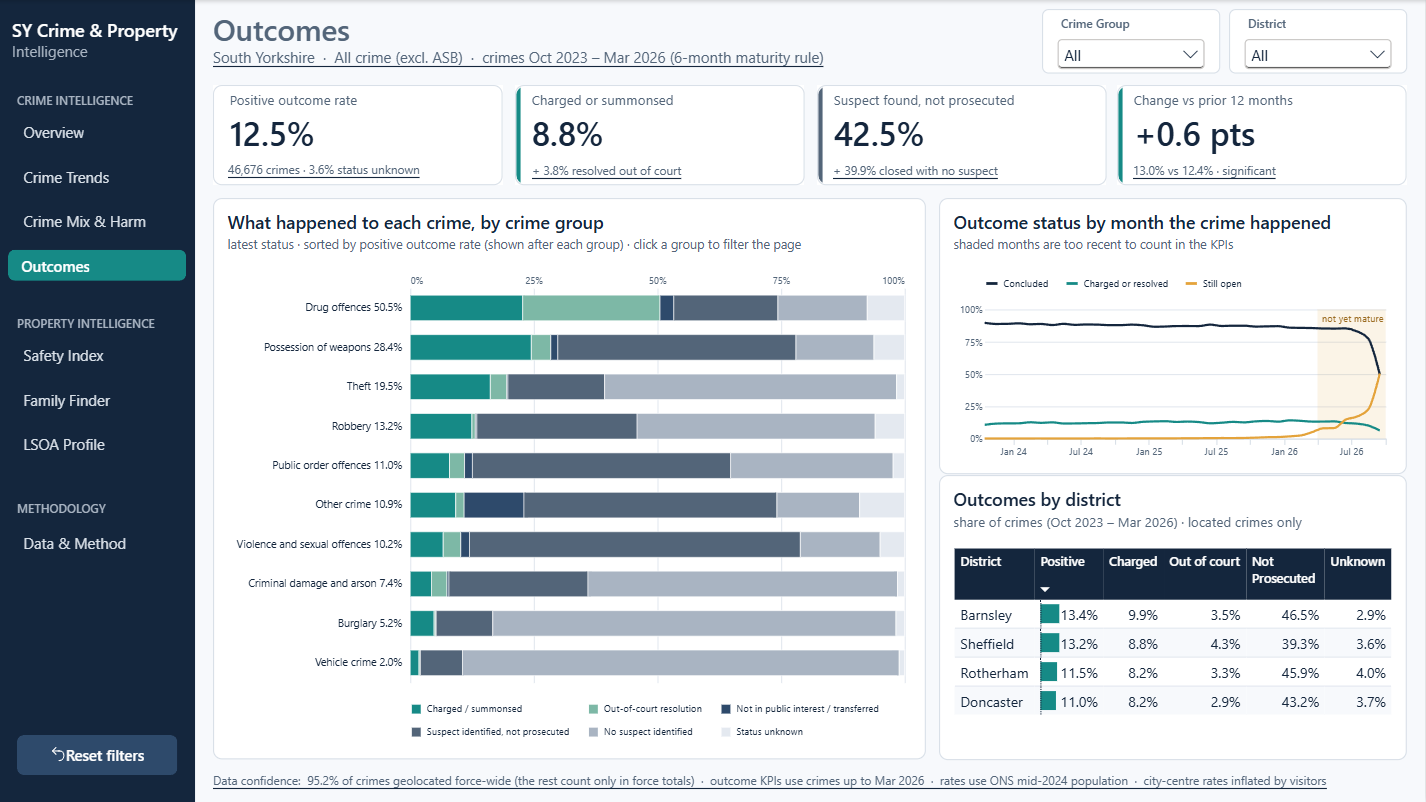

This screenshot's page, from the dashboard's own definition file:
{"tool":"powerbi","page":{"name":"Outcomes","canvas":[1280,720],"ordinal":3},"visuals":[{"type":"group","id":"g1","title":"Nav rail","box":[0,0,176,720],"z":0},{"type":"shape","box":[0,0,176,720],"z":0,"group":"g1"},{"type":"cardVisual","fields":{"Data":["_Measures.Charged Share"]},"box":[463,76,260,90],"z":0,"group":"g3"},{"type":"cardVisual","fields":{"Data":["_Measures.Unable to Prosecute Share"]},"box":[734,76,260,90],"z":0,"group":"g4"},{"type":"cardVisual","fields":{"Data":["_Measures.Positive Rate Change (pts)"]},"box":[1004,76,260,90],"z":0,"group":"g5"},{"type":"cardVisual","title":"Card","fields":{"Data":["_Measures.Positive Outcome Rate"]},"box":[192.1,76.3,260,90],"z":0,"group":"g2"},{"type":"slicer","fields":{"Values":["LSOA.Local Authority"]},"box":[1104,8,160,58],"z":1000},{"type":"textbox","box":[12,16,160,56],"z":1000,"group":"g1"},{"type":"textbox","box":[206,142,232,18],"z":1000,"group":"g2"},{"type":"textbox","box":[477.9,142,232,18],"z":1000,"group":"g3"},{"type":"textbox","box":[748,142,232,18],"z":1000,"group":"g4"},{"type":"textbox","box":[1018.6,142,232,18],"z":1000,"group":"g5"},{"type":"slicer","fields":{"Values":["Crime Category.Crime Group"]},"box":[936,8,160,58],"z":2000},{"type":"textbox","box":[16,80,156,20],"z":2000,"group":"g1"},{"type":"textbox","box":[192,8,640,36],"z":3000},{"type":"textbox","box":[16,280,156,20],"z":3000,"group":"g1"},{"type":"textbox","box":[192,42,736,22],"z":4000},{"type":"textbox","box":[16,446,156,20],"z":4000,"group":"g1"},{"type":"group","id":"g2","title":"KPI P4-1","box":[192.1,76.3,260,90],"z":5000},{"type":"pageNavigator","box":[8,104,160,150],"z":5000,"group":"g1"},{"type":"group","id":"g3","title":"KPI P4-2","box":[463,76,260,90],"z":6000},{"type":"pageNavigator","box":[8,304,160,108],"z":6000,"group":"g1"},{"type":"group","id":"g4","title":"KPI P4-3","box":[734,76,260,90],"z":7000},{"type":"pageNavigator","box":[8,470,160.1,32],"z":7000,"group":"g1"},{"type":"group","id":"g5","title":"KPI P4-4","box":[1004,76,260,90],"z":8000},{"type":"actionButton","box":[16,660,144,36],"z":8000,"group":"g1"},{"type":"deneb7E15AEF80B9E4D4F8E12924291ECE89A","title":"What happened to each crime, by crime group","fields":{"dataset":["Crime Category.Crime Group","_Measures.Positive Outcome Rate","_Measures.Charged Share","_Measures.Out-of-court Share","_Measures.Other Closed Share","_Measures.Unable to Prosecute Share","_Measures.No Suspect Share","_Measures.Unknown Outcome %"]},"box":[192,178,640,504],"z":9000},{"type":"deneb7E15AEF80B9E4D4F8E12924291ECE89A","title":"Outcome status by month the crime happened","fields":{"dataset":["Month.Month Start","_Measures.Concluded % (Crime Month)","_Measures.Positive % (Crime Month)","_Measures.Open % (Crime Month)","_Measures.Mature Flag"]},"box":[844,178,420,248],"z":10000},{"type":"tableEx","title":"Outcomes by district","fields":{"Values":["LSOA.Local Authority","_Measures.Positive Outcome Rate","_Measures.Charged Share","_Measures.Out-of-court Share","_Measures.Unable to Prosecute Share","_Measures.Unknown Outcome %"]},"box":[844,426,420,256],"z":11000},{"type":"textbox","box":[192,690,1072,22],"z":12000}]}

Visuals, with their boxes on the page's 1280x720 design canvas (x1, y1, x2, y2). These are canvas units, not pixel positions in the 1426x802 screenshot, which may show the page scaled, cropped or inside an application window:
"Nav rail" group: [left=0, top=0, right=176, bottom=720]
shape: [left=0, top=0, right=176, bottom=720]
cardVisual - _Measures.Charged Share: [left=463, top=76, right=723, bottom=166]
cardVisual - _Measures.Unable to Prosecute Share: [left=734, top=76, right=994, bottom=166]
cardVisual - _Measures.Positive Rate Change (pts): [left=1004, top=76, right=1264, bottom=166]
"Card" cardVisual: [left=192, top=76, right=452, bottom=166]
slicer - LSOA.Local Authority: [left=1104, top=8, right=1264, bottom=66]
textbox: [left=12, top=16, right=172, bottom=72]
textbox: [left=206, top=142, right=438, bottom=160]
textbox: [left=478, top=142, right=710, bottom=160]
textbox: [left=748, top=142, right=980, bottom=160]
textbox: [left=1019, top=142, right=1251, bottom=160]
slicer - Crime Category.Crime Group: [left=936, top=8, right=1096, bottom=66]
textbox: [left=16, top=80, right=172, bottom=100]
textbox: [left=192, top=8, right=832, bottom=44]
textbox: [left=16, top=280, right=172, bottom=300]
textbox: [left=192, top=42, right=928, bottom=64]
textbox: [left=16, top=446, right=172, bottom=466]
"KPI P4-1" group: [left=192, top=76, right=452, bottom=166]
pageNavigator: [left=8, top=104, right=168, bottom=254]
"KPI P4-2" group: [left=463, top=76, right=723, bottom=166]
pageNavigator: [left=8, top=304, right=168, bottom=412]
"KPI P4-3" group: [left=734, top=76, right=994, bottom=166]
pageNavigator: [left=8, top=470, right=168, bottom=502]
"KPI P4-4" group: [left=1004, top=76, right=1264, bottom=166]
actionButton: [left=16, top=660, right=160, bottom=696]
"What happened to each crime, by crime group" deneb7E15AEF80B9E4D4F8E12924291ECE89A: [left=192, top=178, right=832, bottom=682]
"Outcome status by month the crime happened" deneb7E15AEF80B9E4D4F8E12924291ECE89A: [left=844, top=178, right=1264, bottom=426]
"Outcomes by district" tableEx: [left=844, top=426, right=1264, bottom=682]
textbox: [left=192, top=690, right=1264, bottom=712]
